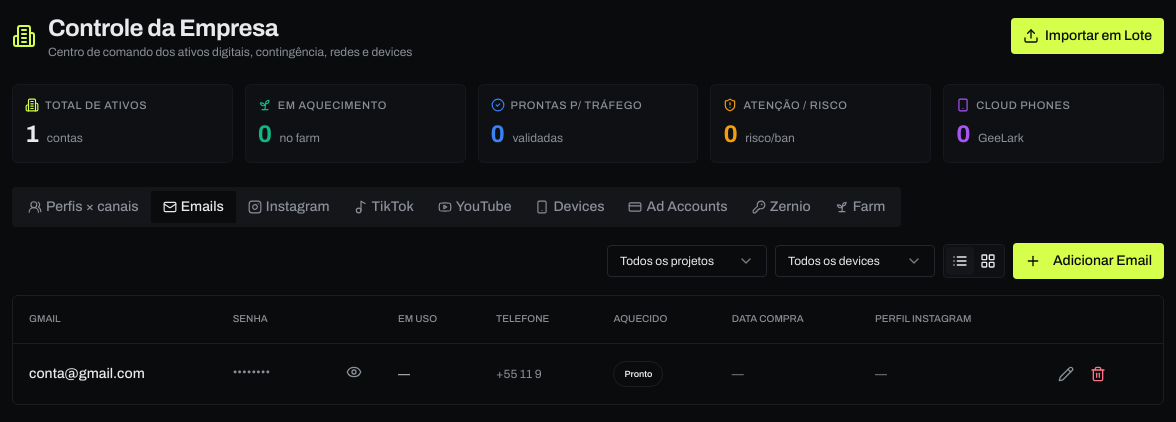
Test case: Empresa → contas de e-mail › reveals the password from the vault on demand and never preloads it
Expected: the text "conta@gmail.com" is shown, [29,364,145,384]
Expected: the text "segredo-123" is not shown
Click the 5th button.
click(354, 372)  # box [342,360,366,384]
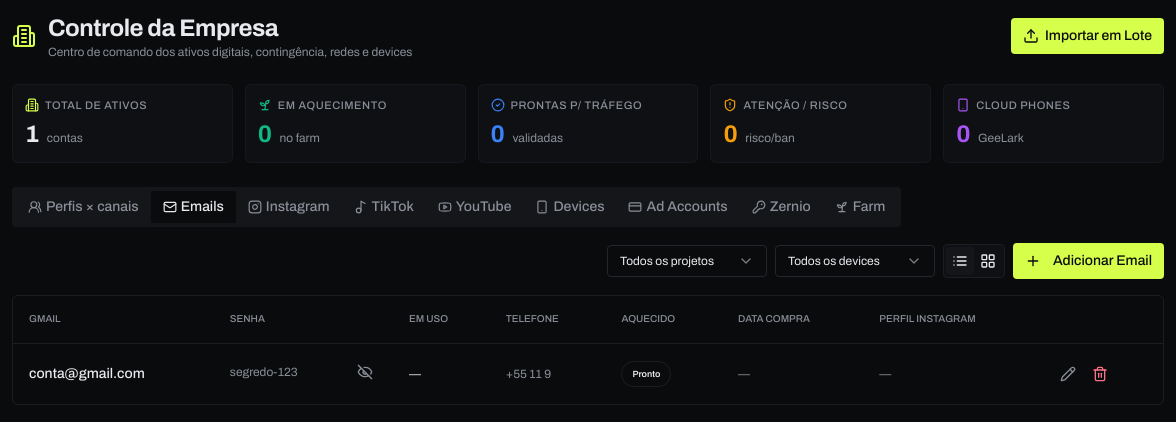
Expected: the text "segredo-123" is shown, [214,344,393,400]
